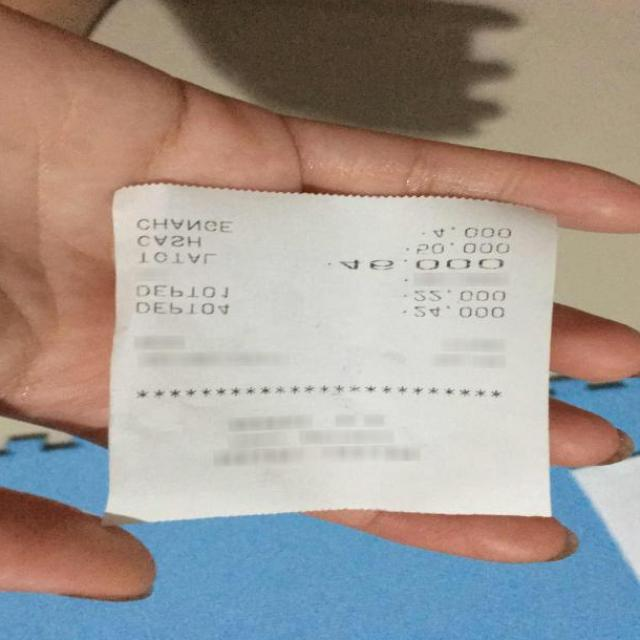kertas: (104, 183, 557, 531)
